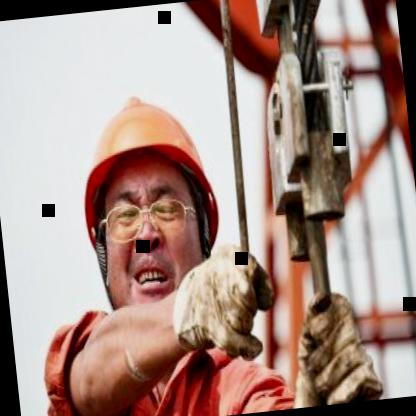helmet: (52, 51, 244, 344)
